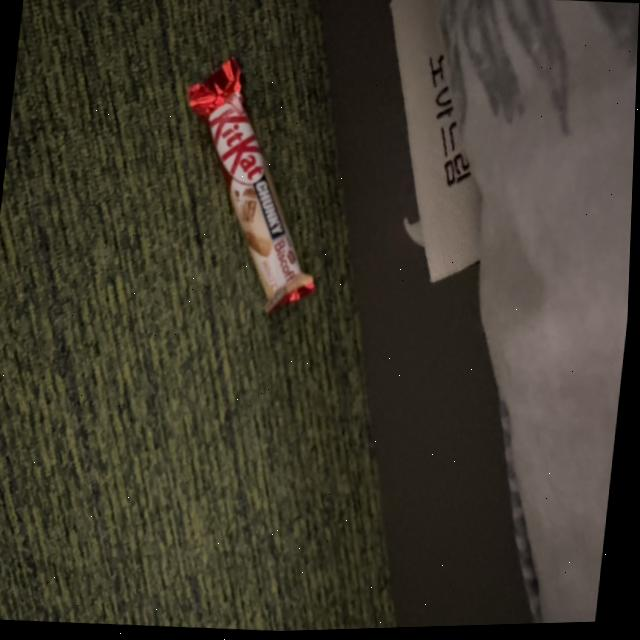chocolate: (159, 45, 342, 335)
